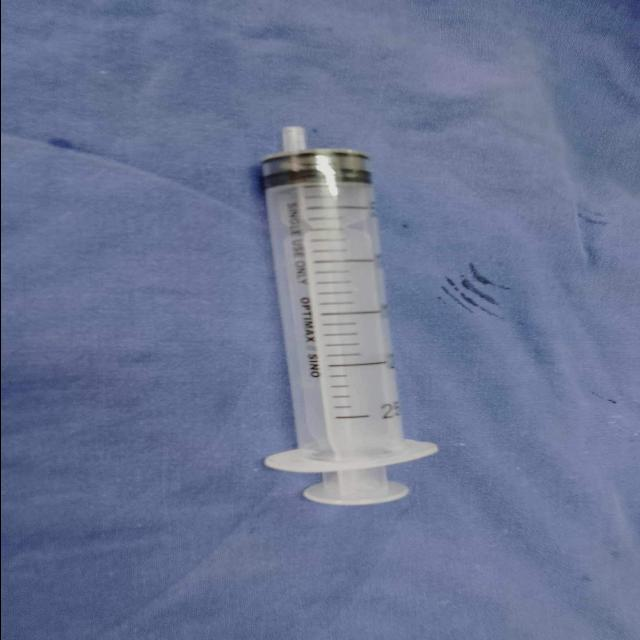General: (4, 2, 636, 636)
Sharps: (256, 125, 440, 506)
